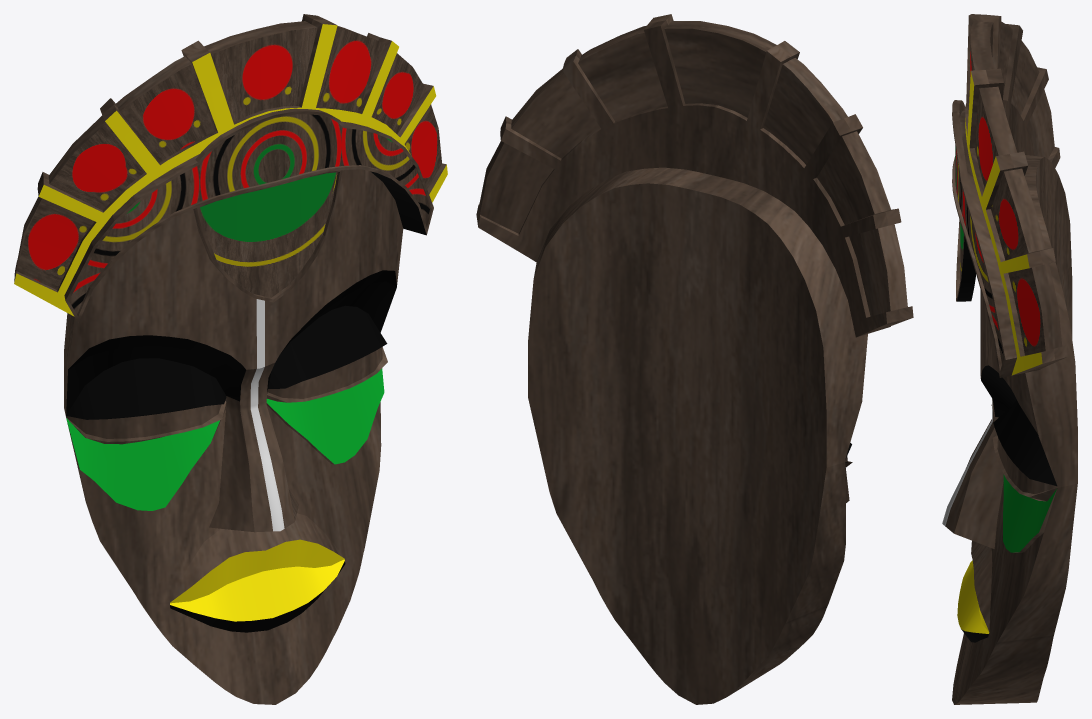
The model's file is mdl_brush_mask1.gltf.
3 views of the same model, side by side, from view 1: azimuth 30°, elevation 25°; view 2: azimuth 150°, elevation 25°; view 3: azimuth 270°, elevation 25° (orthographic).
Parts seen in each view (by area): view 1: SM_mask_Material #126_0; view 2: SM_mask_Material #126_0; view 3: SM_mask_Material #126_0.
Part boxes in pixels (box(x1,y1,x2,y2)): SM_mask_Material #126_0: box(14, 14, 447, 704); SM_mask_Material #126_0: box(476, 14, 913, 704); SM_mask_Material #126_0: box(942, 14, 1077, 704).
Size of the model in its own units: 4.78 by 6.91 by 1.29.
Materials: 9 (7 with a texture image).
